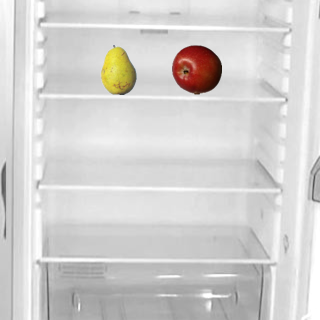Apple Braeburn: (171, 44, 221, 94)
Pear Monster: (93, 44, 143, 94)
